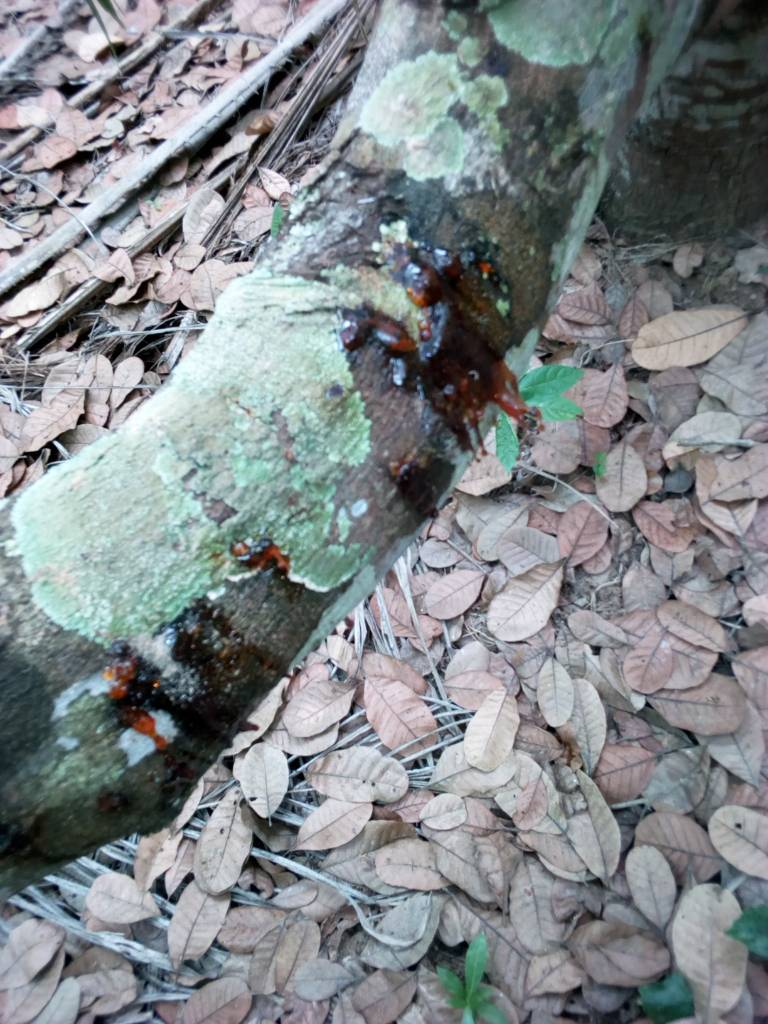Mecocorynus longiceps: (80, 550, 335, 794), (335, 196, 562, 462)
